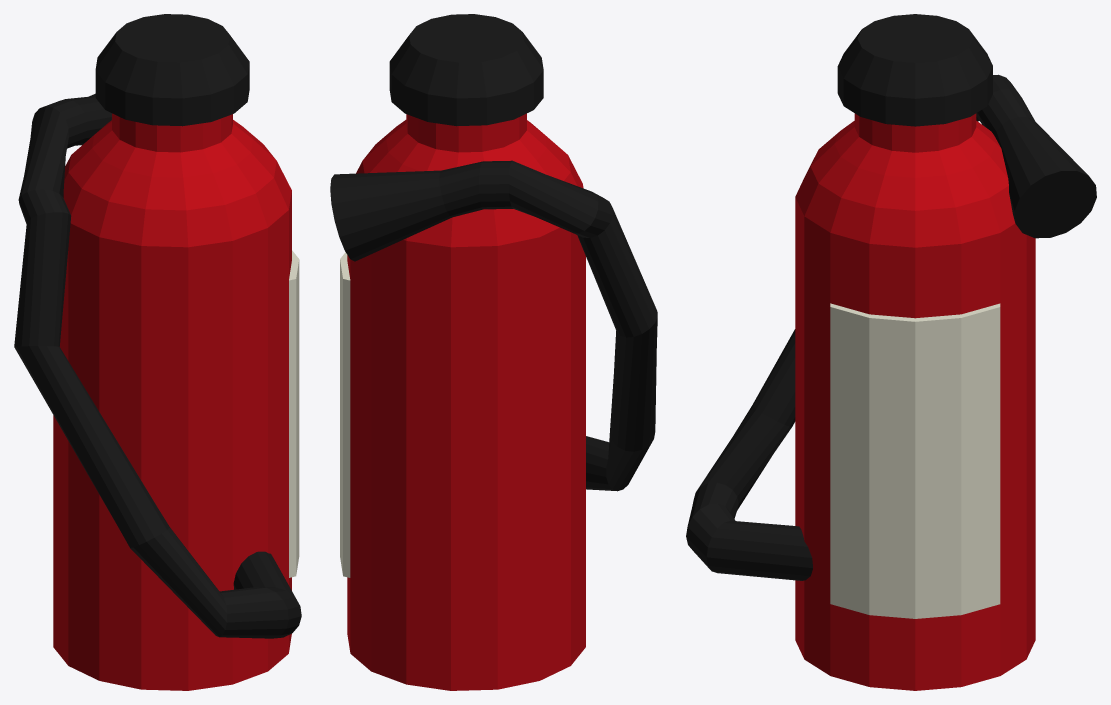
The model's file is fireExtinguisher.glb.
3 renders of one model, left to right at view 1: azimuth 30°, elevation 25°; view 2: azimuth 150°, elevation 25°; view 3: azimuth 270°, elevation 25°, orthographic.
Parts seen in each view (by area): view 1: fireExtinguisher; view 2: fireExtinguisher; view 3: fireExtinguisher.
Part boxes in pixels (x1=…): fireExtinguisher: x1=14, y1=14, x2=301, y2=690; fireExtinguisher: x1=330, y1=14, x2=657, y2=690; fireExtinguisher: x1=686, y1=14, x2=1096, y2=690.
Bounding box in the file's own units: 0.6633 × 1.34 × 0.8325.
